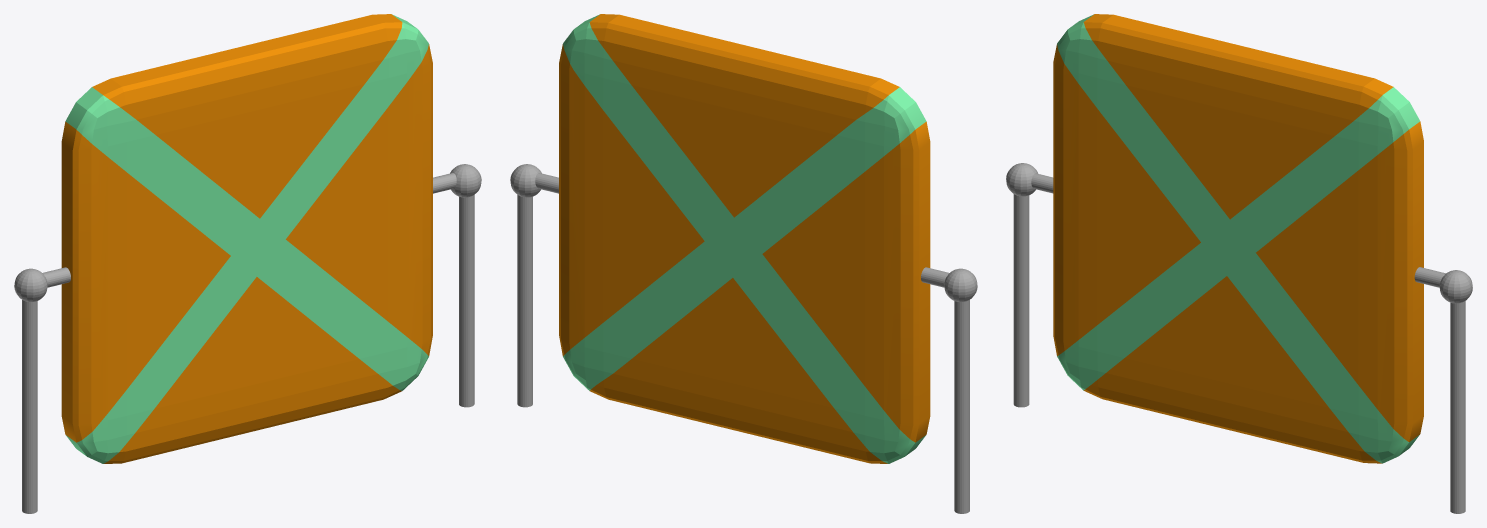
3 renders of one model, left to right at view 1: azimuth 30°, elevation 25°; view 2: azimuth 150°, elevation 25°; view 3: azimuth 330°, elevation 25°, orthographic.
Visible parts, largest first — view 1: Cylinder, Cylinder.002; view 2: Cylinder, Cylinder.002; view 3: Cylinder, Cylinder.002.
Part boxes in pixels (x1,y1,x2,y2): Cylinder: [61, 14, 432, 463]; Cylinder.002: [14, 164, 481, 513]; Cylinder: [559, 14, 930, 463]; Cylinder.002: [510, 164, 977, 513]; Cylinder: [1053, 14, 1423, 463]; Cylinder.002: [1006, 163, 1472, 513].
Bounding box in the file's own units: 1629 × 1368 × 130.
